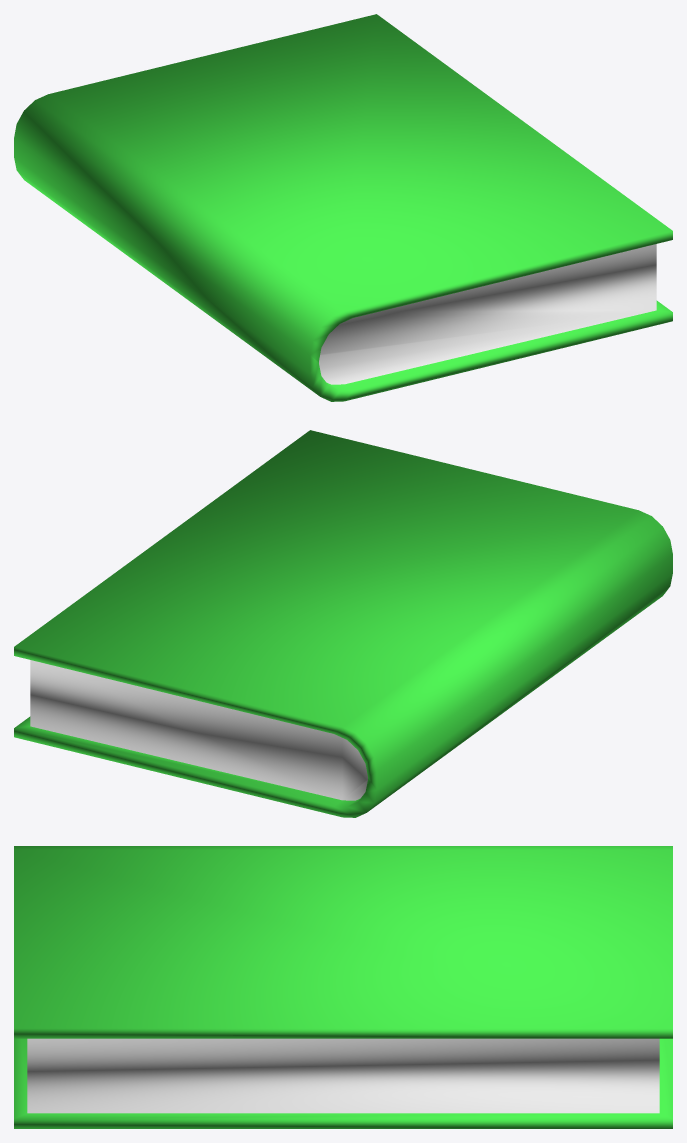
File: ksiazkazielona.fbx
The picture shows the model from 3 angles, top to bottom: view 1: azimuth 30°, elevation 25°; view 2: azimuth 150°, elevation 25°; view 3: azimuth 270°, elevation 25°; orthographic projection. The views are drawn at different scales.
Visible parts, largest first — view 1: Cube.001; view 2: Cube.001; view 3: Cube.001.
Boxes of the visible parts, <box> form: Cube.001: <box>14,14,672,401</box>; Cube.001: <box>14,430,672,817</box>; Cube.001: <box>14,846,672,1128</box>.
Bounding box in the file's own units: 420 × 100 × 594.
